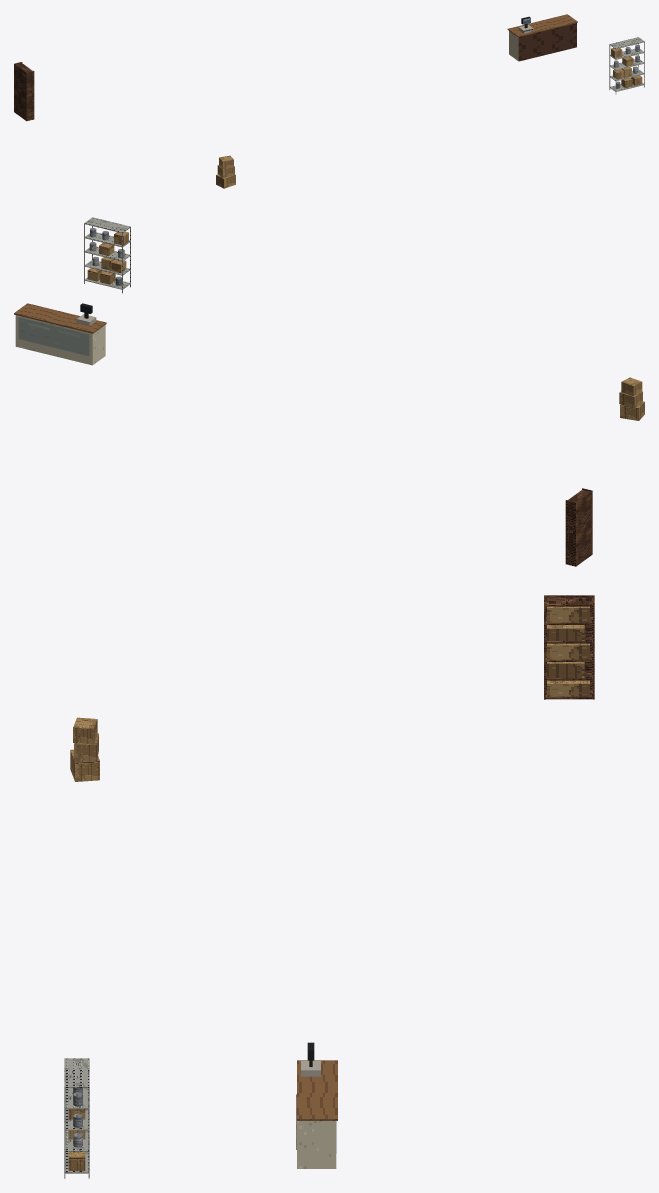
The model's file is COM_Storefront_D_Furnishing.glb.
3 renders of one model, top to bottom at view 1: azimuth 30°, elevation 25°; view 2: azimuth 150°, elevation 25°; view 3: azimuth 270°, elevation 25°, orthographic. The views are drawn at different scales.
Visible parts, largest first — view 1: COM_Storefront_D_Furnishing_Mesh; view 2: COM_Storefront_D_Furnishing_Mesh; view 3: COM_Storefront_D_Furnishing_Mesh.
Part boxes in pixels (bbox=[...]): COM_Storefront_D_Furnishing_Mesh: bbox=[14, 14, 644, 188]; COM_Storefront_D_Furnishing_Mesh: bbox=[14, 217, 644, 566]; COM_Storefront_D_Furnishing_Mesh: bbox=[64, 595, 594, 1178].
Size of what is drawn, in the model's own units: 20.49 by 1.9 by 9.44.
Materials: 6 (6 with a texture image).
